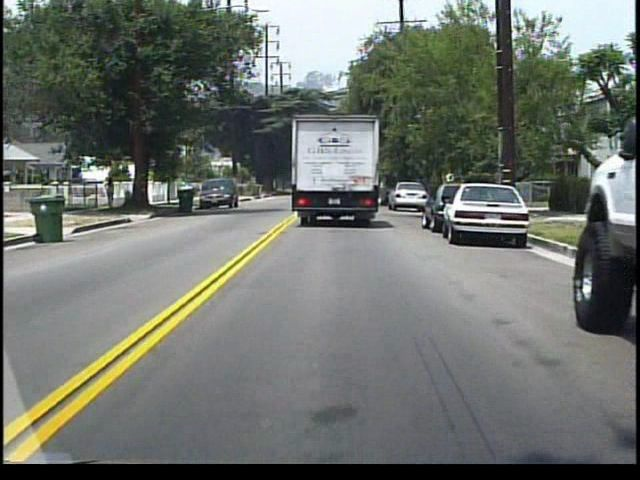person: (107, 177, 119, 210)
